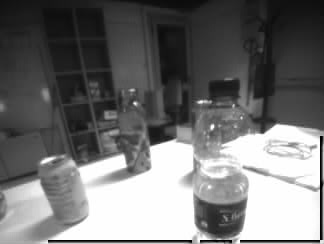Bottle: (194, 79, 245, 239), (120, 90, 153, 172)
Tin can: (41, 158, 89, 220)
